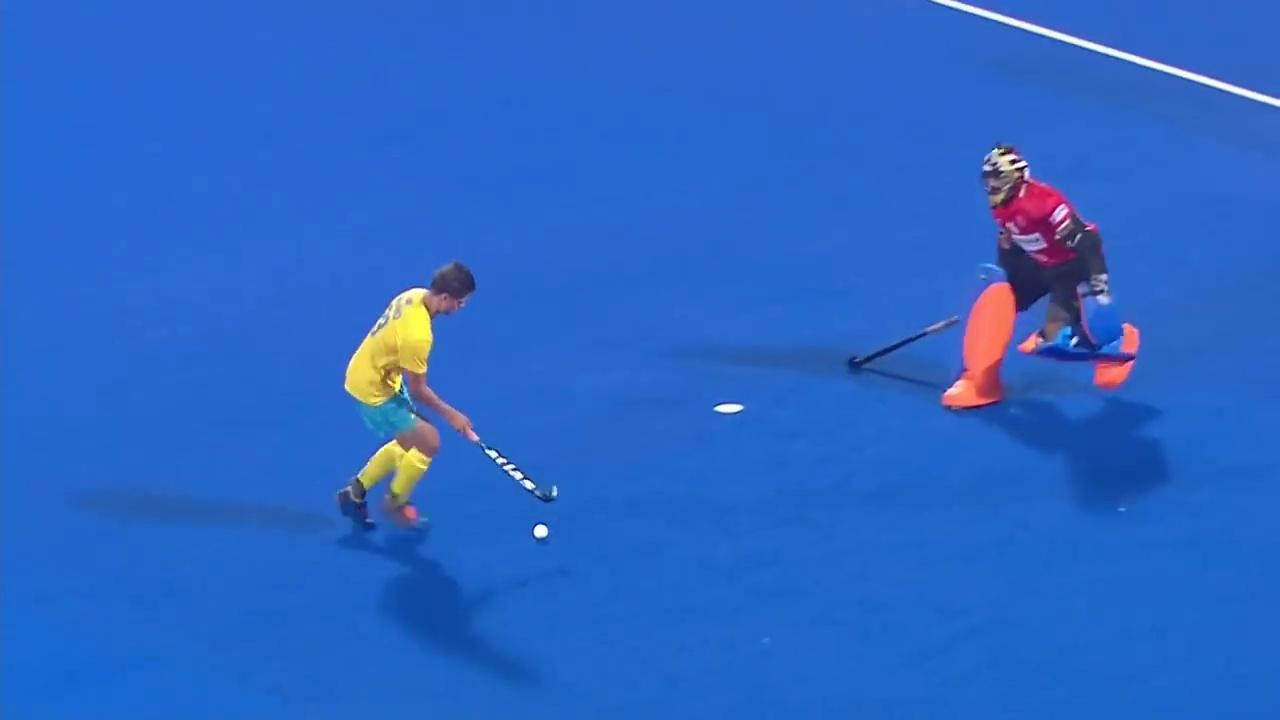ball: (504, 507, 572, 550)
